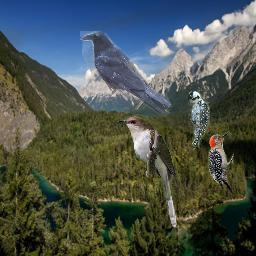Crow: (80, 31, 172, 117)
Cuckoo: (116, 115, 177, 228)
Woodpecker: (206, 130, 234, 199), (188, 91, 210, 150)
